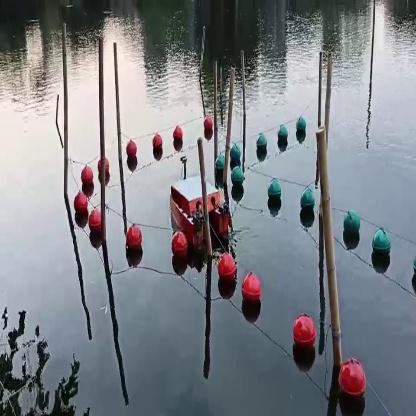green_buoy: (370, 226, 391, 269), (342, 210, 360, 248), (299, 189, 317, 223), (230, 167, 247, 200), (267, 178, 284, 211), (230, 138, 244, 163), (294, 112, 308, 136), (277, 121, 288, 148), (257, 133, 268, 157), (214, 152, 224, 174)
red_buoy: (339, 356, 367, 406), (240, 264, 260, 317), (293, 311, 315, 358), (217, 249, 236, 290), (126, 220, 142, 259), (170, 231, 188, 264), (90, 207, 104, 241), (74, 188, 85, 219), (82, 164, 92, 189), (153, 130, 161, 152), (203, 119, 211, 136), (127, 143, 133, 163), (176, 127, 180, 142)
